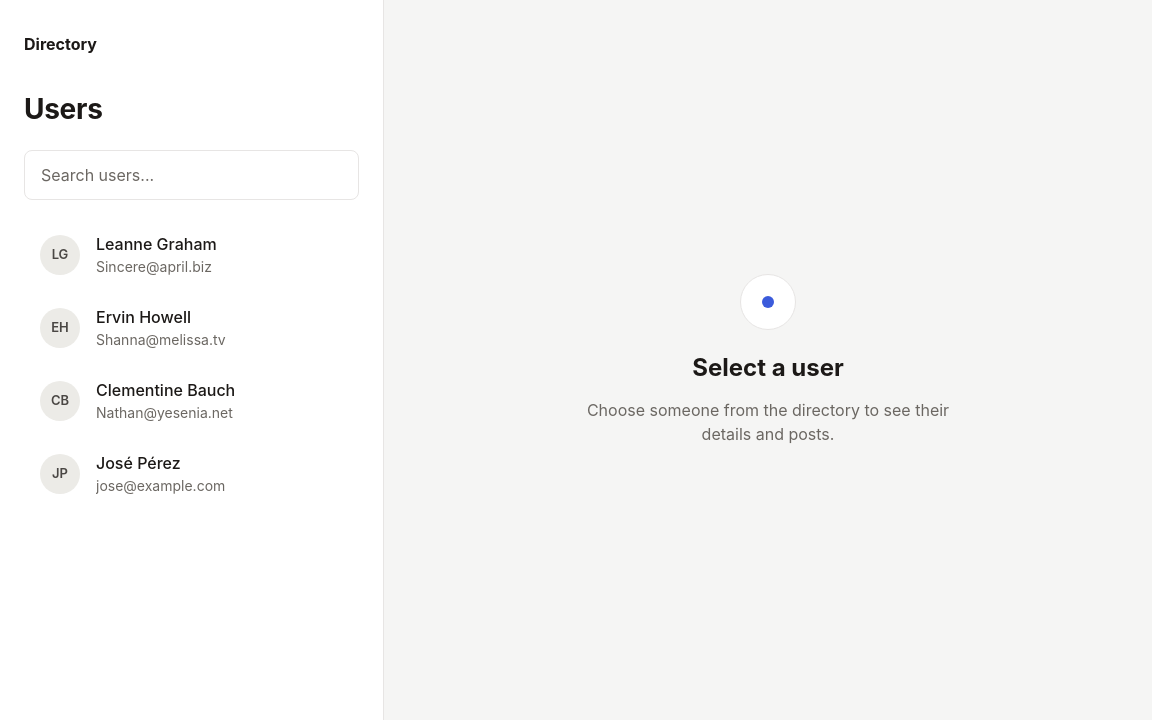
Test: Users directory › shows an empty state for searches without results and lets the user clear it
Expected: the button "LG Leanne Graham Sincere@april.biz" is shown, [24,220,359,289]
Type "zeta" into the search field named "Search users by name" at (192, 175), box [24,150,359,200]
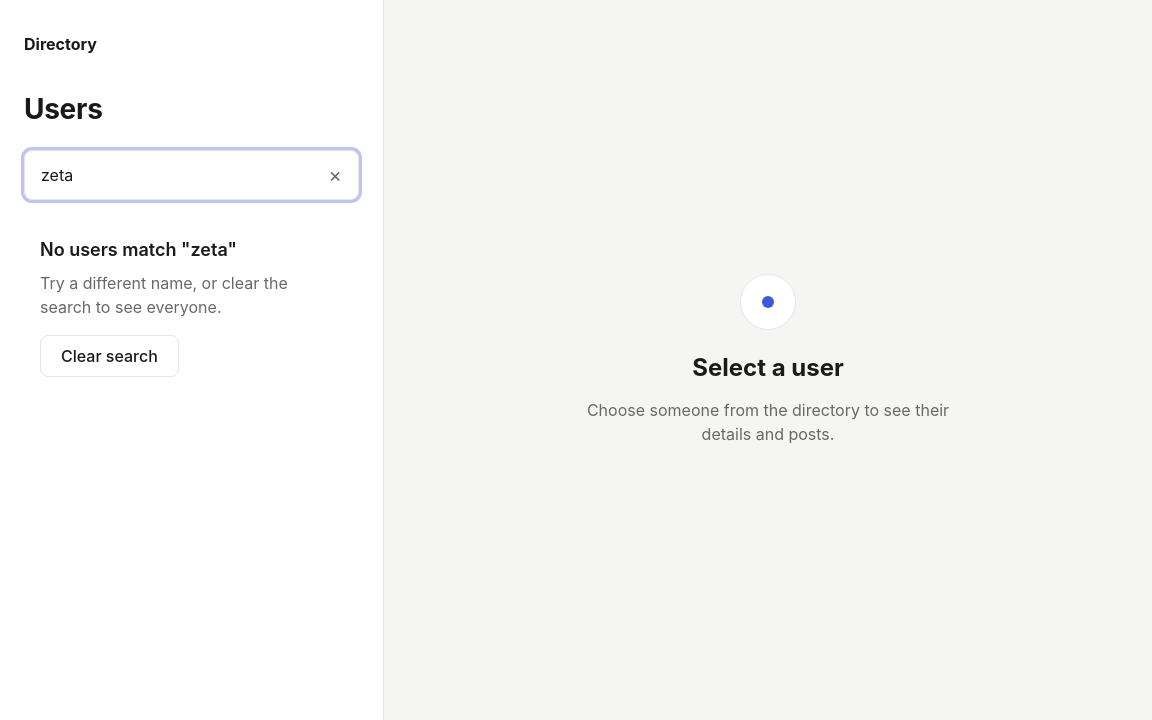
Expected: the text "No users match \"zeta\"" is shown, [40,236,237,263]
Click the button "Clear search" at (109, 356), box [40,335,179,377]
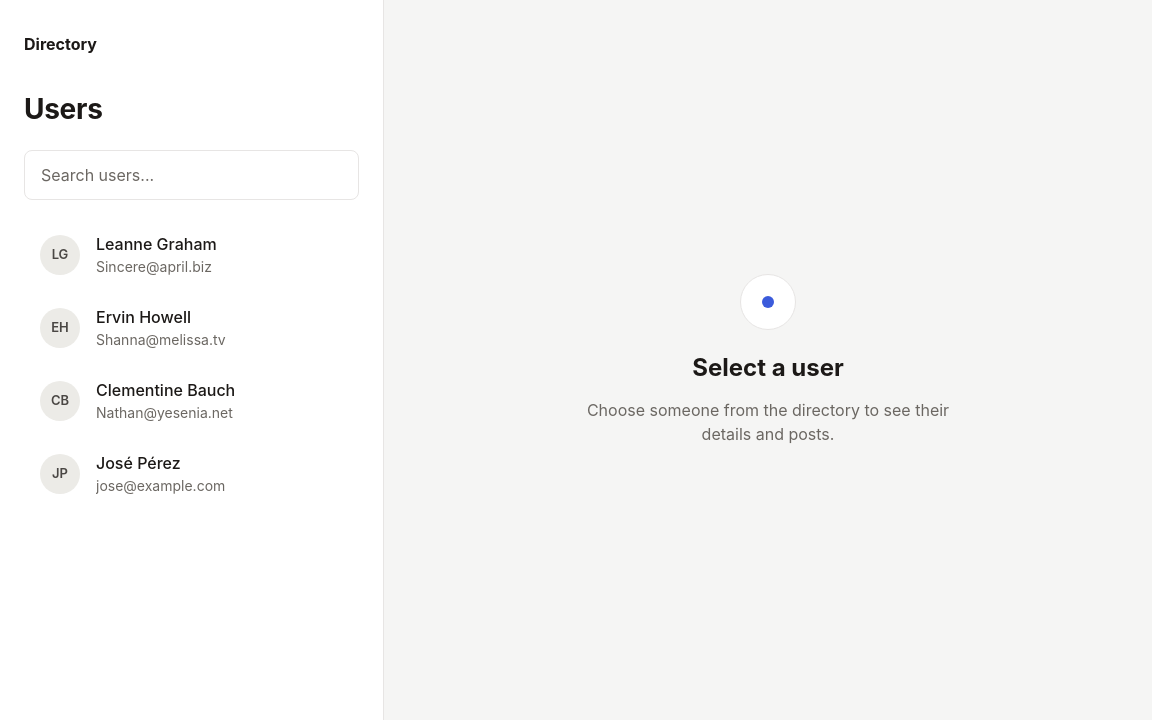
Expected: the search field named "Search users by name" is empty, [24,150,359,200]
Expected: the number of buttons is 4, [24,220,359,289]; [24,293,359,362]; [24,366,359,435]; [24,439,359,508]
